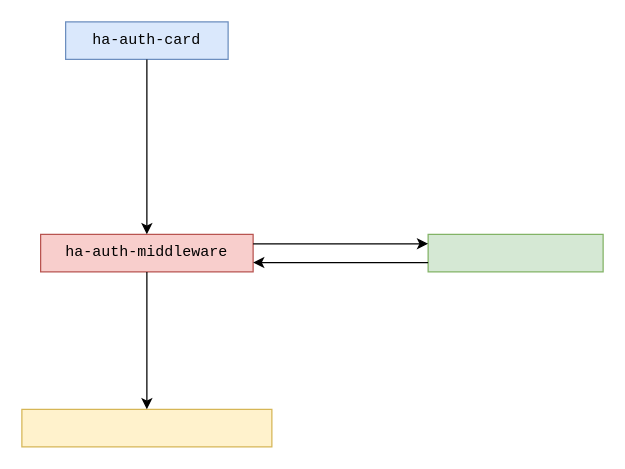
Image size: 625x469. Some labels were removed from this diagram. Here are the shapes that lost their labels. From the top down, the centre of each, then its label:
At pixel 515 252: "ha-auth-verify".
At pixel 146 427: "service with forward auth".
